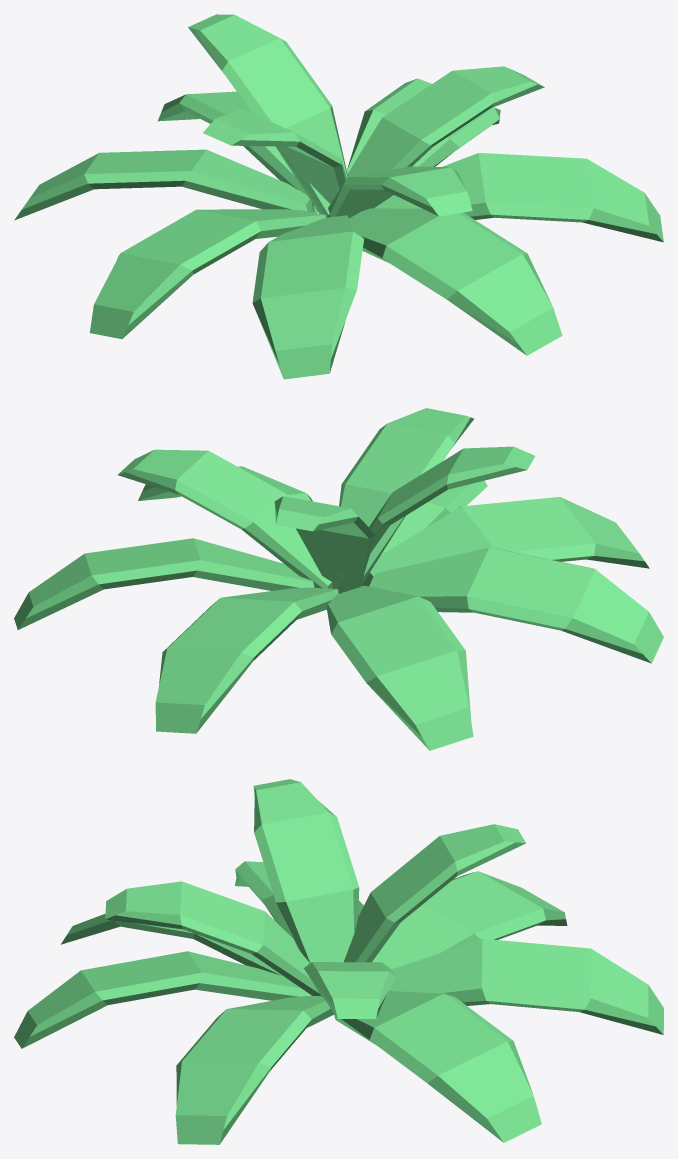
The model's file is Planta 1.fbx.
3 views of the same model, one above another, from view 1: azimuth 30°, elevation 25°; view 2: azimuth 150°, elevation 25°; view 3: azimuth 270°, elevation 25° (orthographic).
Parts seen in each view (by area): view 1: Cube.076; view 2: Cube.076; view 3: Cube.076.
Part boxes in pixels (x1,y1,x2,y2): Cube.076: (14, 14, 663, 379); Cube.076: (14, 408, 663, 750); Cube.076: (14, 779, 663, 1144).
Bounding box in the file's own units: 8.95 × 2.74 × 9.32.
